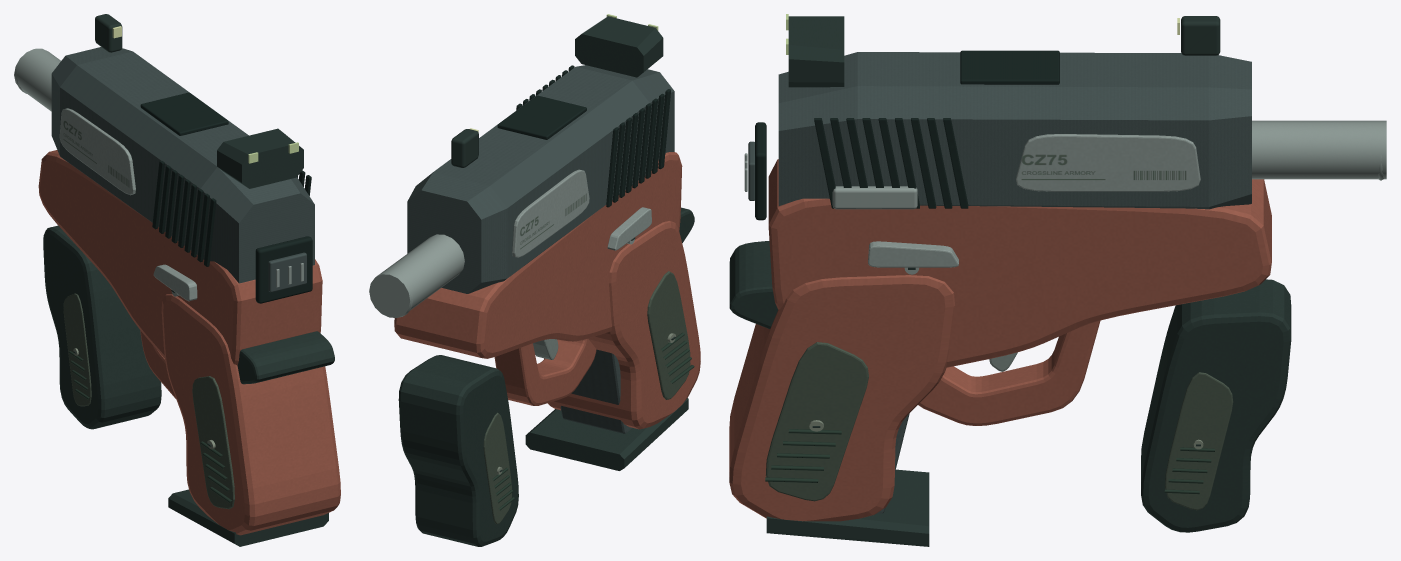
3 views of the same model, side by side, from view 1: azimuth 30°, elevation 25°; view 2: azimuth 150°, elevation 25°; view 3: azimuth 270°, elevation 25° (orthographic). The views are drawn at different scales.
Parts seen in each view (by area): view 1: cz75, bolt, magazine; view 2: cz75, bolt, magazine; view 3: cz75, bolt, magazine.
Boxes of the visible parts, x1,y1,x2,y2 form: cz75: [14, 48, 340, 535]; bolt: [51, 14, 314, 283]; magazine: [168, 489, 328, 546]; cz75: [369, 152, 700, 546]; bolt: [407, 14, 674, 293]; magazine: [525, 349, 688, 470]; cz75: [729, 120, 1386, 532]; bolt: [778, 14, 1251, 209]; magazine: [766, 413, 929, 546].
Bounding box in the file's own units: 0.1045 × 0.3776 × 0.4486.
15 materials, 12 textured.
